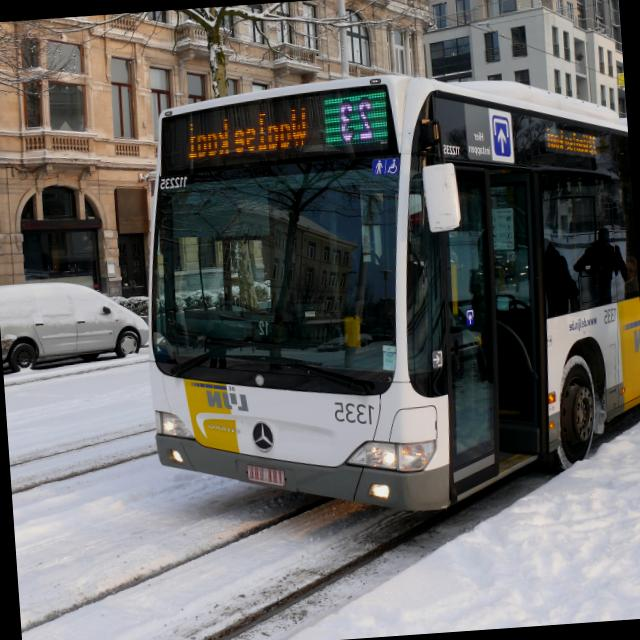bus-number: (323, 93, 386, 145)
